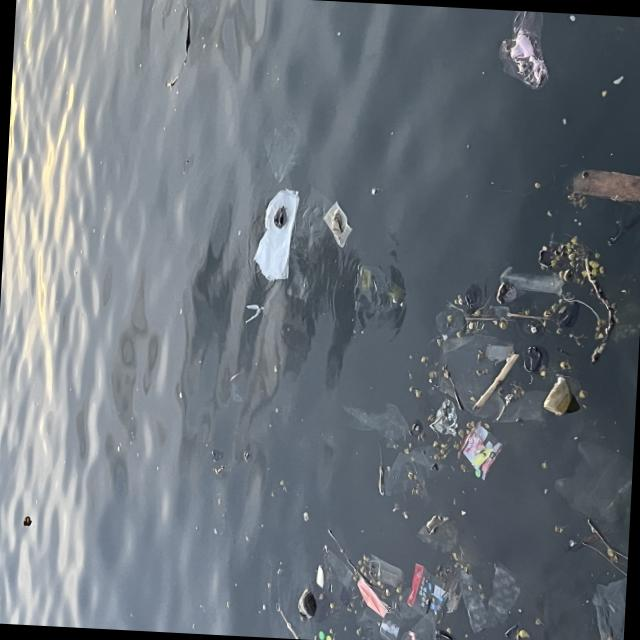foam: (316, 566, 325, 588)
plastic bag: (251, 189, 301, 284), (489, 12, 547, 91)
